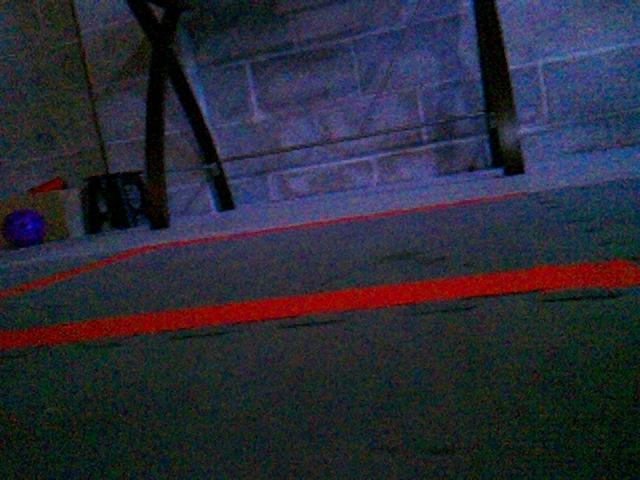Purple: (1, 208, 47, 246)
